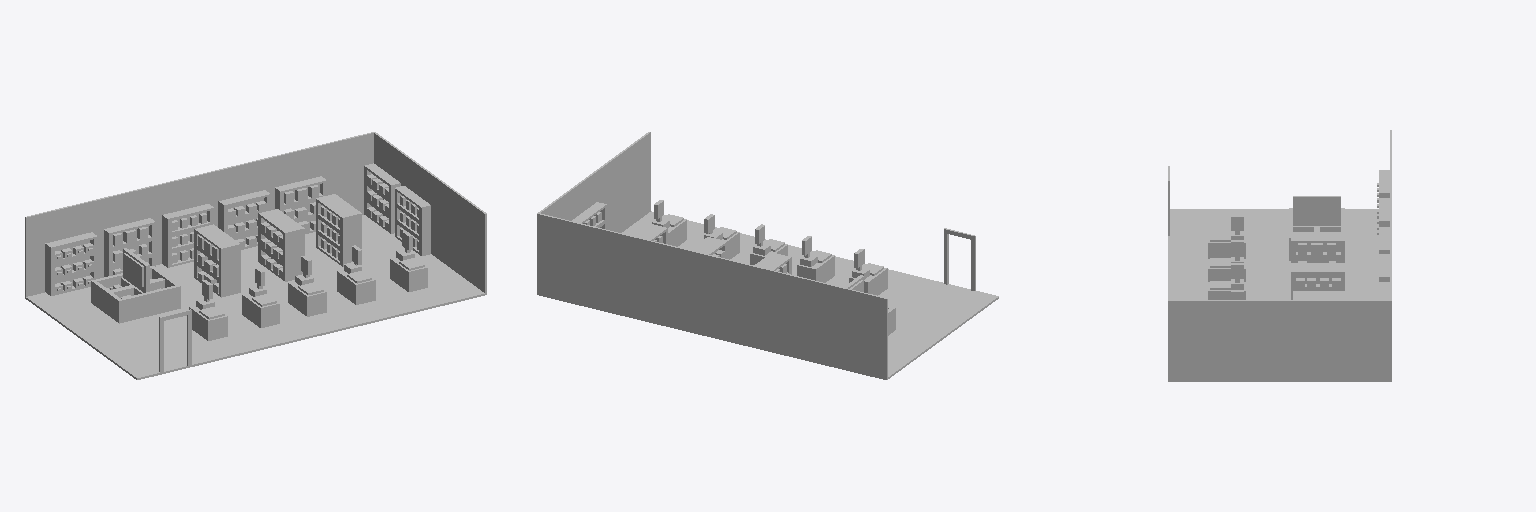
The model's file is supermarket interior.obj.
The picture shows the model from 3 angles: view 1: azimuth 30°, elevation 25°; view 2: azimuth 150°, elevation 25°; view 3: azimuth 270°, elevation 25°; orthographic projection.
Parts seen in each view (by area): view 1: object 1; view 2: object 1; view 3: object 1.
Boxes of the visible parts, box(x1,y1,x2,y2) form: object 1: box(25, 132, 486, 379); object 1: box(537, 132, 998, 379); object 1: box(1168, 130, 1391, 381).
Size of the model in its own units: 18 by 4 by 10.